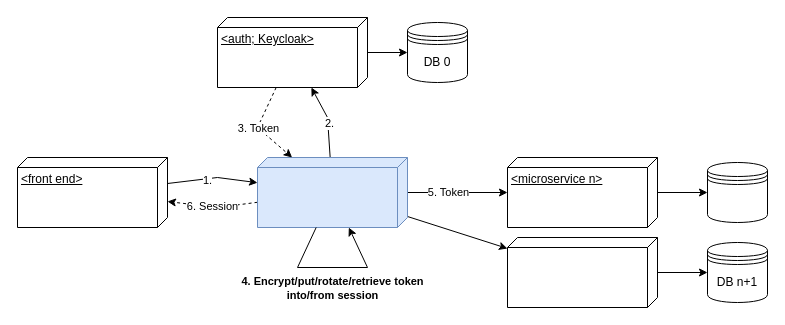
This 785x325 diagram has some shape labels left out. The shapes that lost their labels are listed below. From the top down, each one's centre as x and y in pixels, then its label:
[332,192]: <microservice; FastAPI> my-ride-api
[737,192]: DB n
[582,272]: <microservice n+1>
